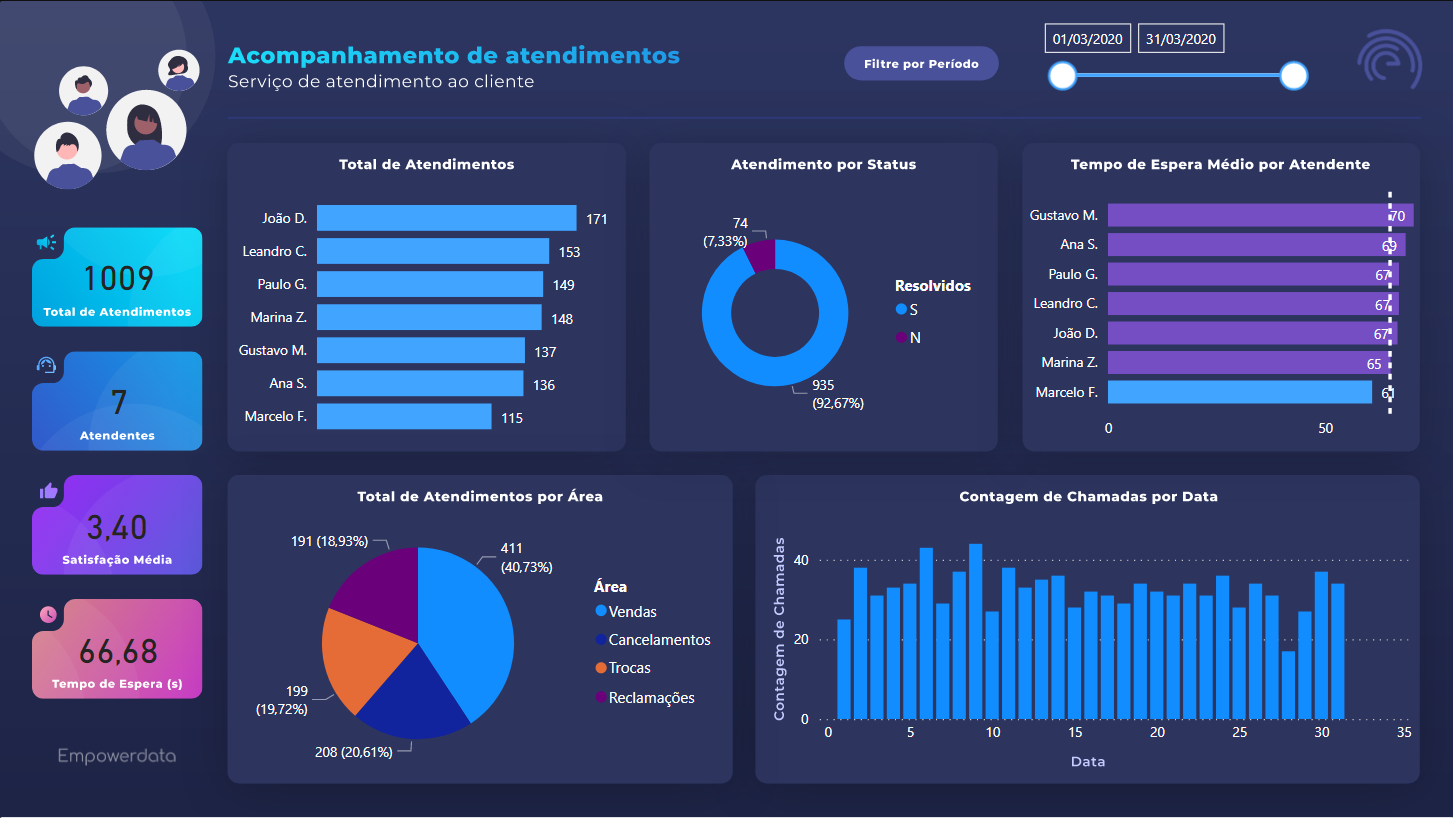

The page's visual inventory and layout, read from the dashboard file:
{"tool":"powerbi","page":{"name":"Página 1","canvas":[1280,720],"ordinal":0},"visuals":[{"type":"card","fields":{"Values":["atendimentos.Call Id"]},"box":[30.2,200.4,148.8,83.6],"z":0},{"type":"card","fields":{"Values":["atendimentos.Atendente"]},"box":[30.2,306.4,150.8,88.5],"z":1000},{"type":"card","fields":{"Values":["atendimentos.Media Atendimento"]},"box":[28.2,416.3,150.8,88.5],"z":2000},{"type":"card","fields":{"Values":["atendimentos.Medida Tempo de Espera"]},"box":[29.2,526.2,150.8,86.6],"z":3000},{"type":"slicer","fields":{"Values":["atendimentos.Data"]},"box":[906.5,10.7,252.9,81.7],"z":4000},{"type":"clusteredColumnChart","fields":{"Y":["atendimentos.Call Id"],"Category":["atendimentos.Data.Variation.Hierarquia de datas.Ano","atendimentos.Data.Variation.Hierarquia de datas.Trimestre","atendimentos.Data.Variation.Hierarquia de datas.Mês","atendimentos.Data.Variation.Hierarquia de datas.Dia"]},"box":[693.6,434.3,553.8,235.6],"z":5000},{"type":"pieChart","fields":{"Y":["atendimentos.Call Id"],"Series":["atendimentos.Área"]},"box":[208.4,434.3,431.6,249.7],"z":6000},{"type":"barChart","fields":{"Category":["atendimentos.Atendente"],"Y":["atendimentos.Call Id"]},"box":[202.2,142.4,349.9,253.2],"z":7000},{"type":"donutChart","fields":{"Y":["atendimentos.Call Id"],"Category":["atendimentos.Resolvidos"]},"box":[572.3,142.4,305.9,252.3],"z":8000},{"type":"barChart","fields":{"Category":["atendimentos.Atendente"],"Y":["atendimentos.Medida Tempo de Espera"]},"box":[895.8,142.4,359.6,252.3],"z":9000}]}

Visuals, with their boxes in screenshot pixels (x1, y1, x2, y2), scaled from the page's 1280x720 canvas onto the 1453x818 screenshot:
card - atendimentos.Call Id: bbox=[34, 228, 203, 323]
card - atendimentos.Atendente: bbox=[34, 348, 205, 449]
card - atendimentos.Media Atendimento: bbox=[32, 473, 203, 574]
card - atendimentos.Medida Tempo de Espera: bbox=[33, 598, 204, 696]
slicer - atendimentos.Data: bbox=[1029, 12, 1316, 105]
clusteredColumnChart - atendimentos.Call Id x atendimentos.Data.Variation.Hierarquia de datas.Ano: bbox=[787, 493, 1416, 761]
pieChart - atendimentos.Call Id x atendimentos.Área: bbox=[237, 493, 726, 777]
barChart - atendimentos.Atendente x atendimentos.Call Id: bbox=[230, 162, 627, 449]
donutChart - atendimentos.Call Id x atendimentos.Resolvidos: bbox=[650, 162, 997, 448]
barChart - atendimentos.Atendente x atendimentos.Medida Tempo de Espera: bbox=[1017, 162, 1425, 448]
